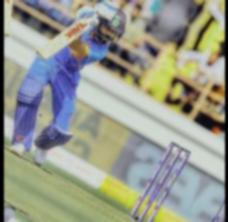batsman: (3, 0, 137, 176)
